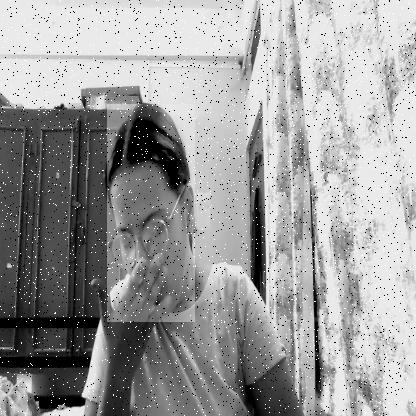Distracted: (106, 104, 194, 322)
